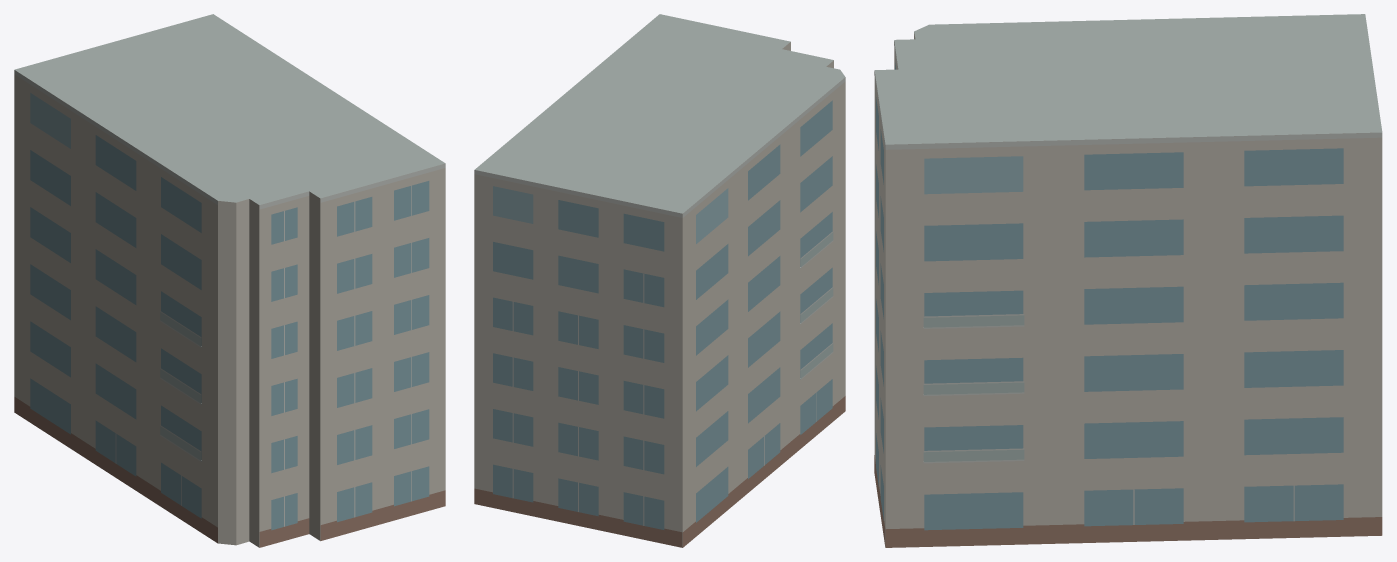
The model's file is survey-upis-32738100.glb.
3 views of the same model, side by side, from view 1: azimuth 30°, elevation 25°; view 2: azimuth 150°, elevation 25°; view 3: azimuth 270°, elevation 25° (orthographic). The views are drawn at different scales.
Parts seen in each view (by area): view 1: survey-upis-32738100.tmp; view 2: survey-upis-32738100.tmp; view 3: survey-upis-32738100.tmp.
Boxes of the visible parts, x1,y1,x2,y2 form: survey-upis-32738100.tmp: (14,14,445,547); survey-upis-32738100.tmp: (474,14,845,547); survey-upis-32738100.tmp: (874,14,1382,547).
Size of the model in its own units: 13.15 by 18.9 by 21.59.
